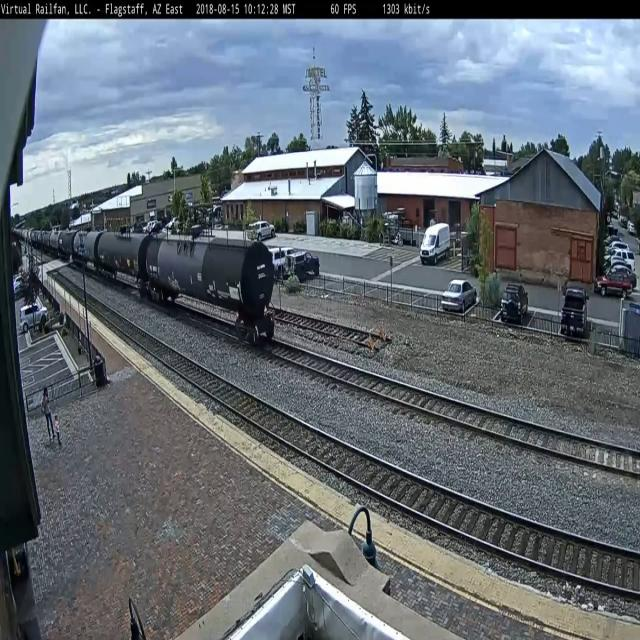tank: (143, 225, 277, 349), (95, 224, 151, 298)
